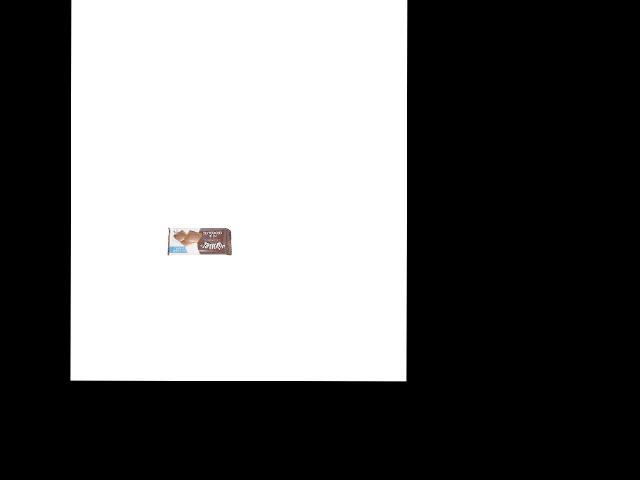chocolate: (167, 226, 231, 256)
